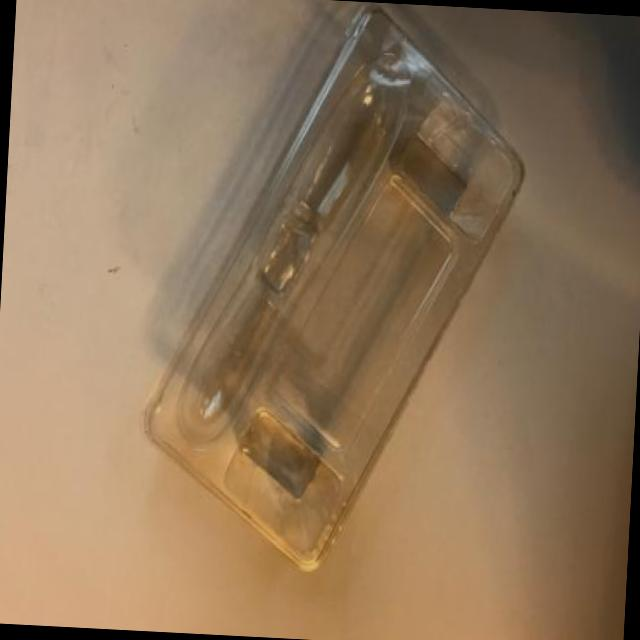Recycle: (137, 0, 532, 583)
